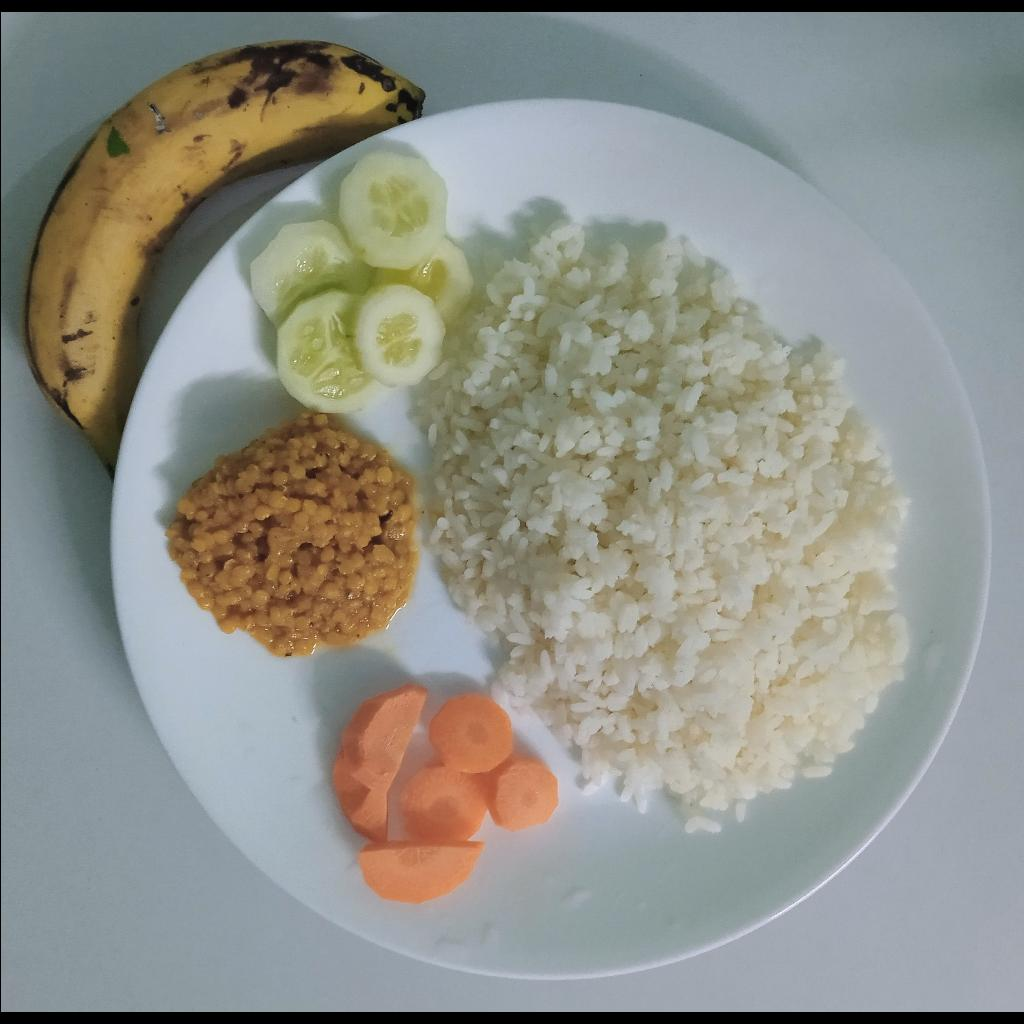banana: (24, 40, 424, 480)
carrot: (330, 683, 559, 906)
cucumber: (248, 150, 472, 413)
daal: (165, 413, 416, 655)
rice: (417, 221, 910, 828)
